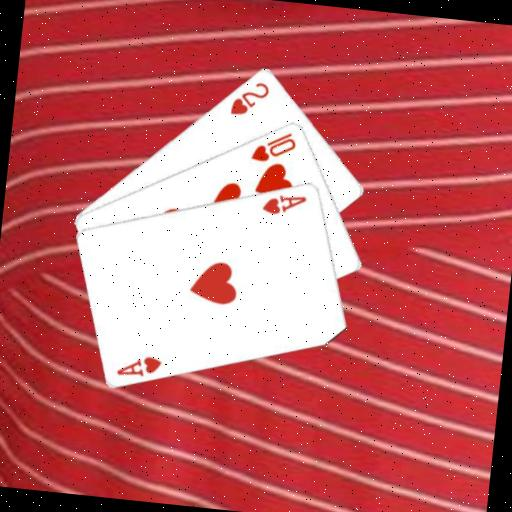10H: (247, 125, 299, 166)
2H: (227, 76, 273, 120)
AH: (258, 188, 309, 219), (114, 350, 165, 381)
